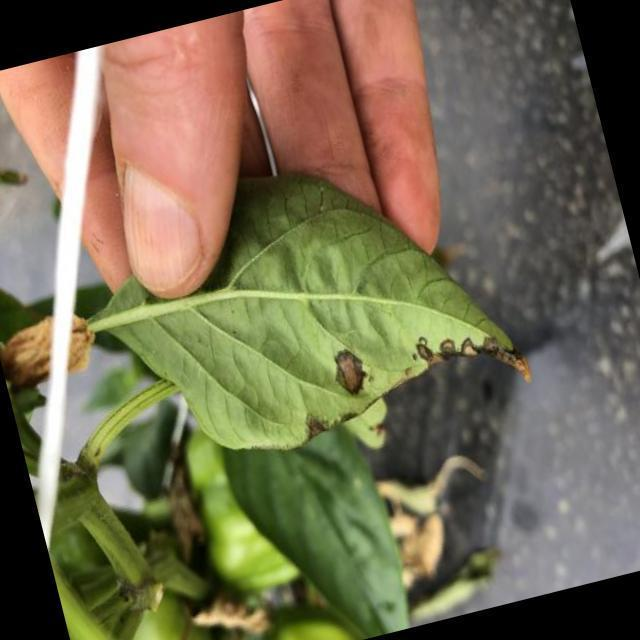Bacterial Spot: (268, 303, 502, 441)
